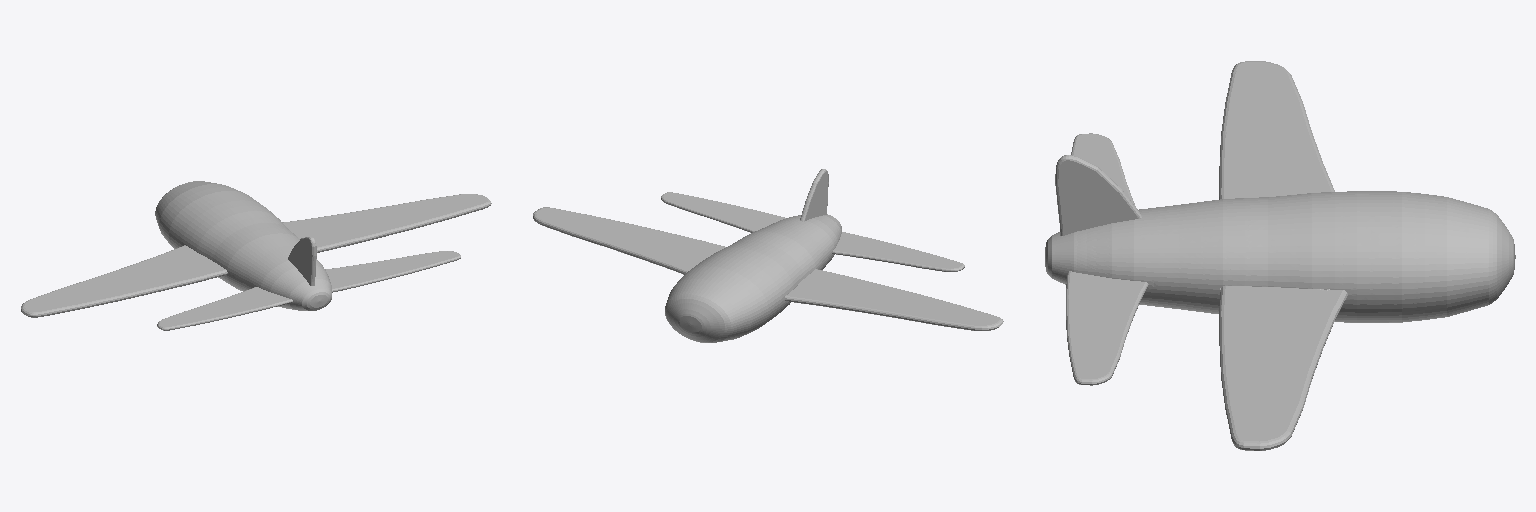
URDF robot description (root):
<robot name="root">
  <link name="link_001">
    <visual>
      <origin xyz="0 0 0" rpy="0 0 0"/>
      <geometry>
        <mesh filename="airplane.obj" scale="1.5000E+00 1.0000E+00 1.0000E+00"/>
      </geometry>
      <material name="">
        <color rgba="7.50E-01 7.50E-01 7.50E-01 1"/>
      </material>
    </visual>
    <collision>
      <origin xyz="0 0 0" rpy="0 0 0"/>
      <geometry>
        <mesh filename="airplane.obj" scale="1.5000E+00 1.0000E+00 1.0000E+00"/>
      </geometry>
    </collision>
    <inertial>
      <mass value="0.16"/> <!-- 质量：0.1kg -->
    </inertial>
  </link>
</robot>

--- Facts derived from the render (not from the file) ---
Views: 3 orthographic renders of the robot side by side, from view 1: azimuth 30°, elevation 25°; view 2: azimuth 150°, elevation 25°; view 3: azimuth 270°, elevation 25°.
Robot: root — 1 links, 0 joints (none); root link link_001; default pose: all joints at 0.
Links seen in each view (by area): view 1: link_001; view 2: link_001; view 3: link_001.
Boxes of the visible links, <box> form: link_001: <box>21,181,491,330</box>; link_001: <box>533,169,1003,342</box>; link_001: <box>1045,61,1515,450</box>.
Size in the robot's own frame: 0.2675 by 0.138 by 0.0499 metres.
1 mesh visuals loaded from 1 distinct referenced files (1 OBJ).
